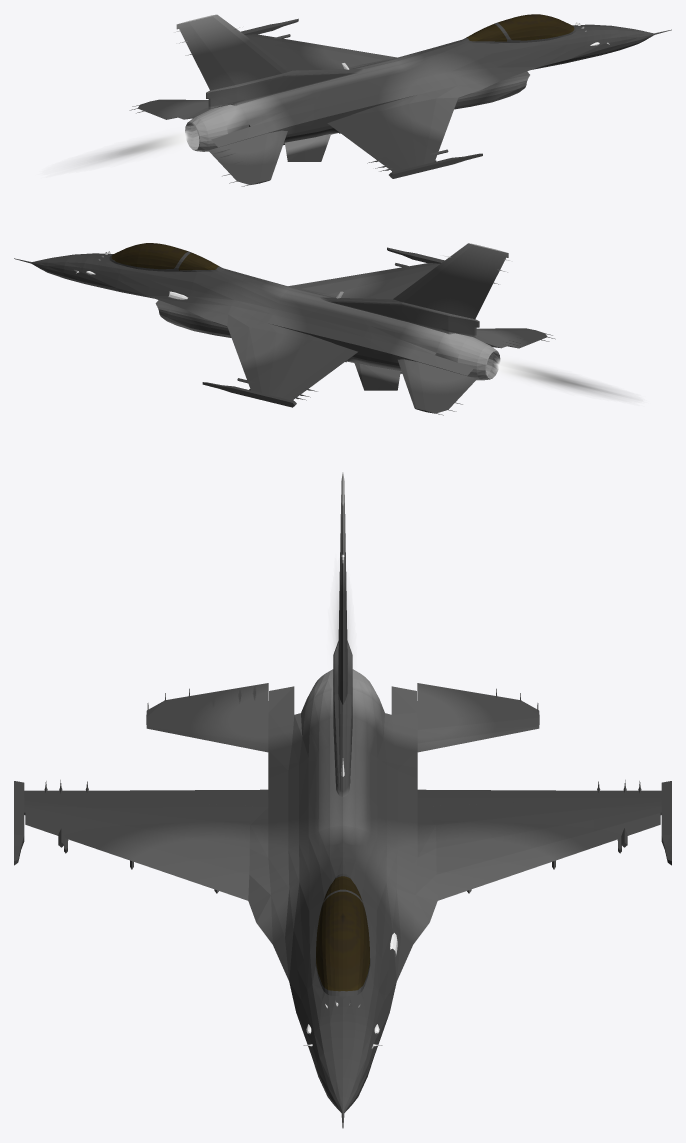
3 renders of one model, top to bottom at view 1: azimuth 30°, elevation 25°; view 2: azimuth 150°, elevation 25°; view 3: azimuth 270°, elevation 25°, orthographic. The views are drawn at different scales.
Parts seen in each view (by area): view 1: LOD0, Glass_Canopy01, Flame_Booster.002, Glass01; view 2: LOD0, Flame_Booster.002, Glass_Canopy01, Glass01; view 3: LOD0, Glass_Canopy01.
Part boxes in pixels (x1,y1,x2,y2): LOD0: [129, 14, 671, 186]; Glass_Canopy01: [497, 14, 574, 40]; Flame_Booster.002: [86, 129, 189, 164]; Glass01: [466, 24, 507, 41]; LOD0: [14, 243, 555, 415]; Flame_Booster.002: [494, 357, 628, 397]; Glass_Canopy01: [111, 243, 188, 269]; Glass01: [178, 252, 219, 270]; LOD0: [14, 472, 671, 1128]; Glass_Canopy01: [316, 891, 369, 991].
Size of the model in its own units: 19.37 by 4.63 by 9.56.
Materials: 5 (5 with a texture image).
